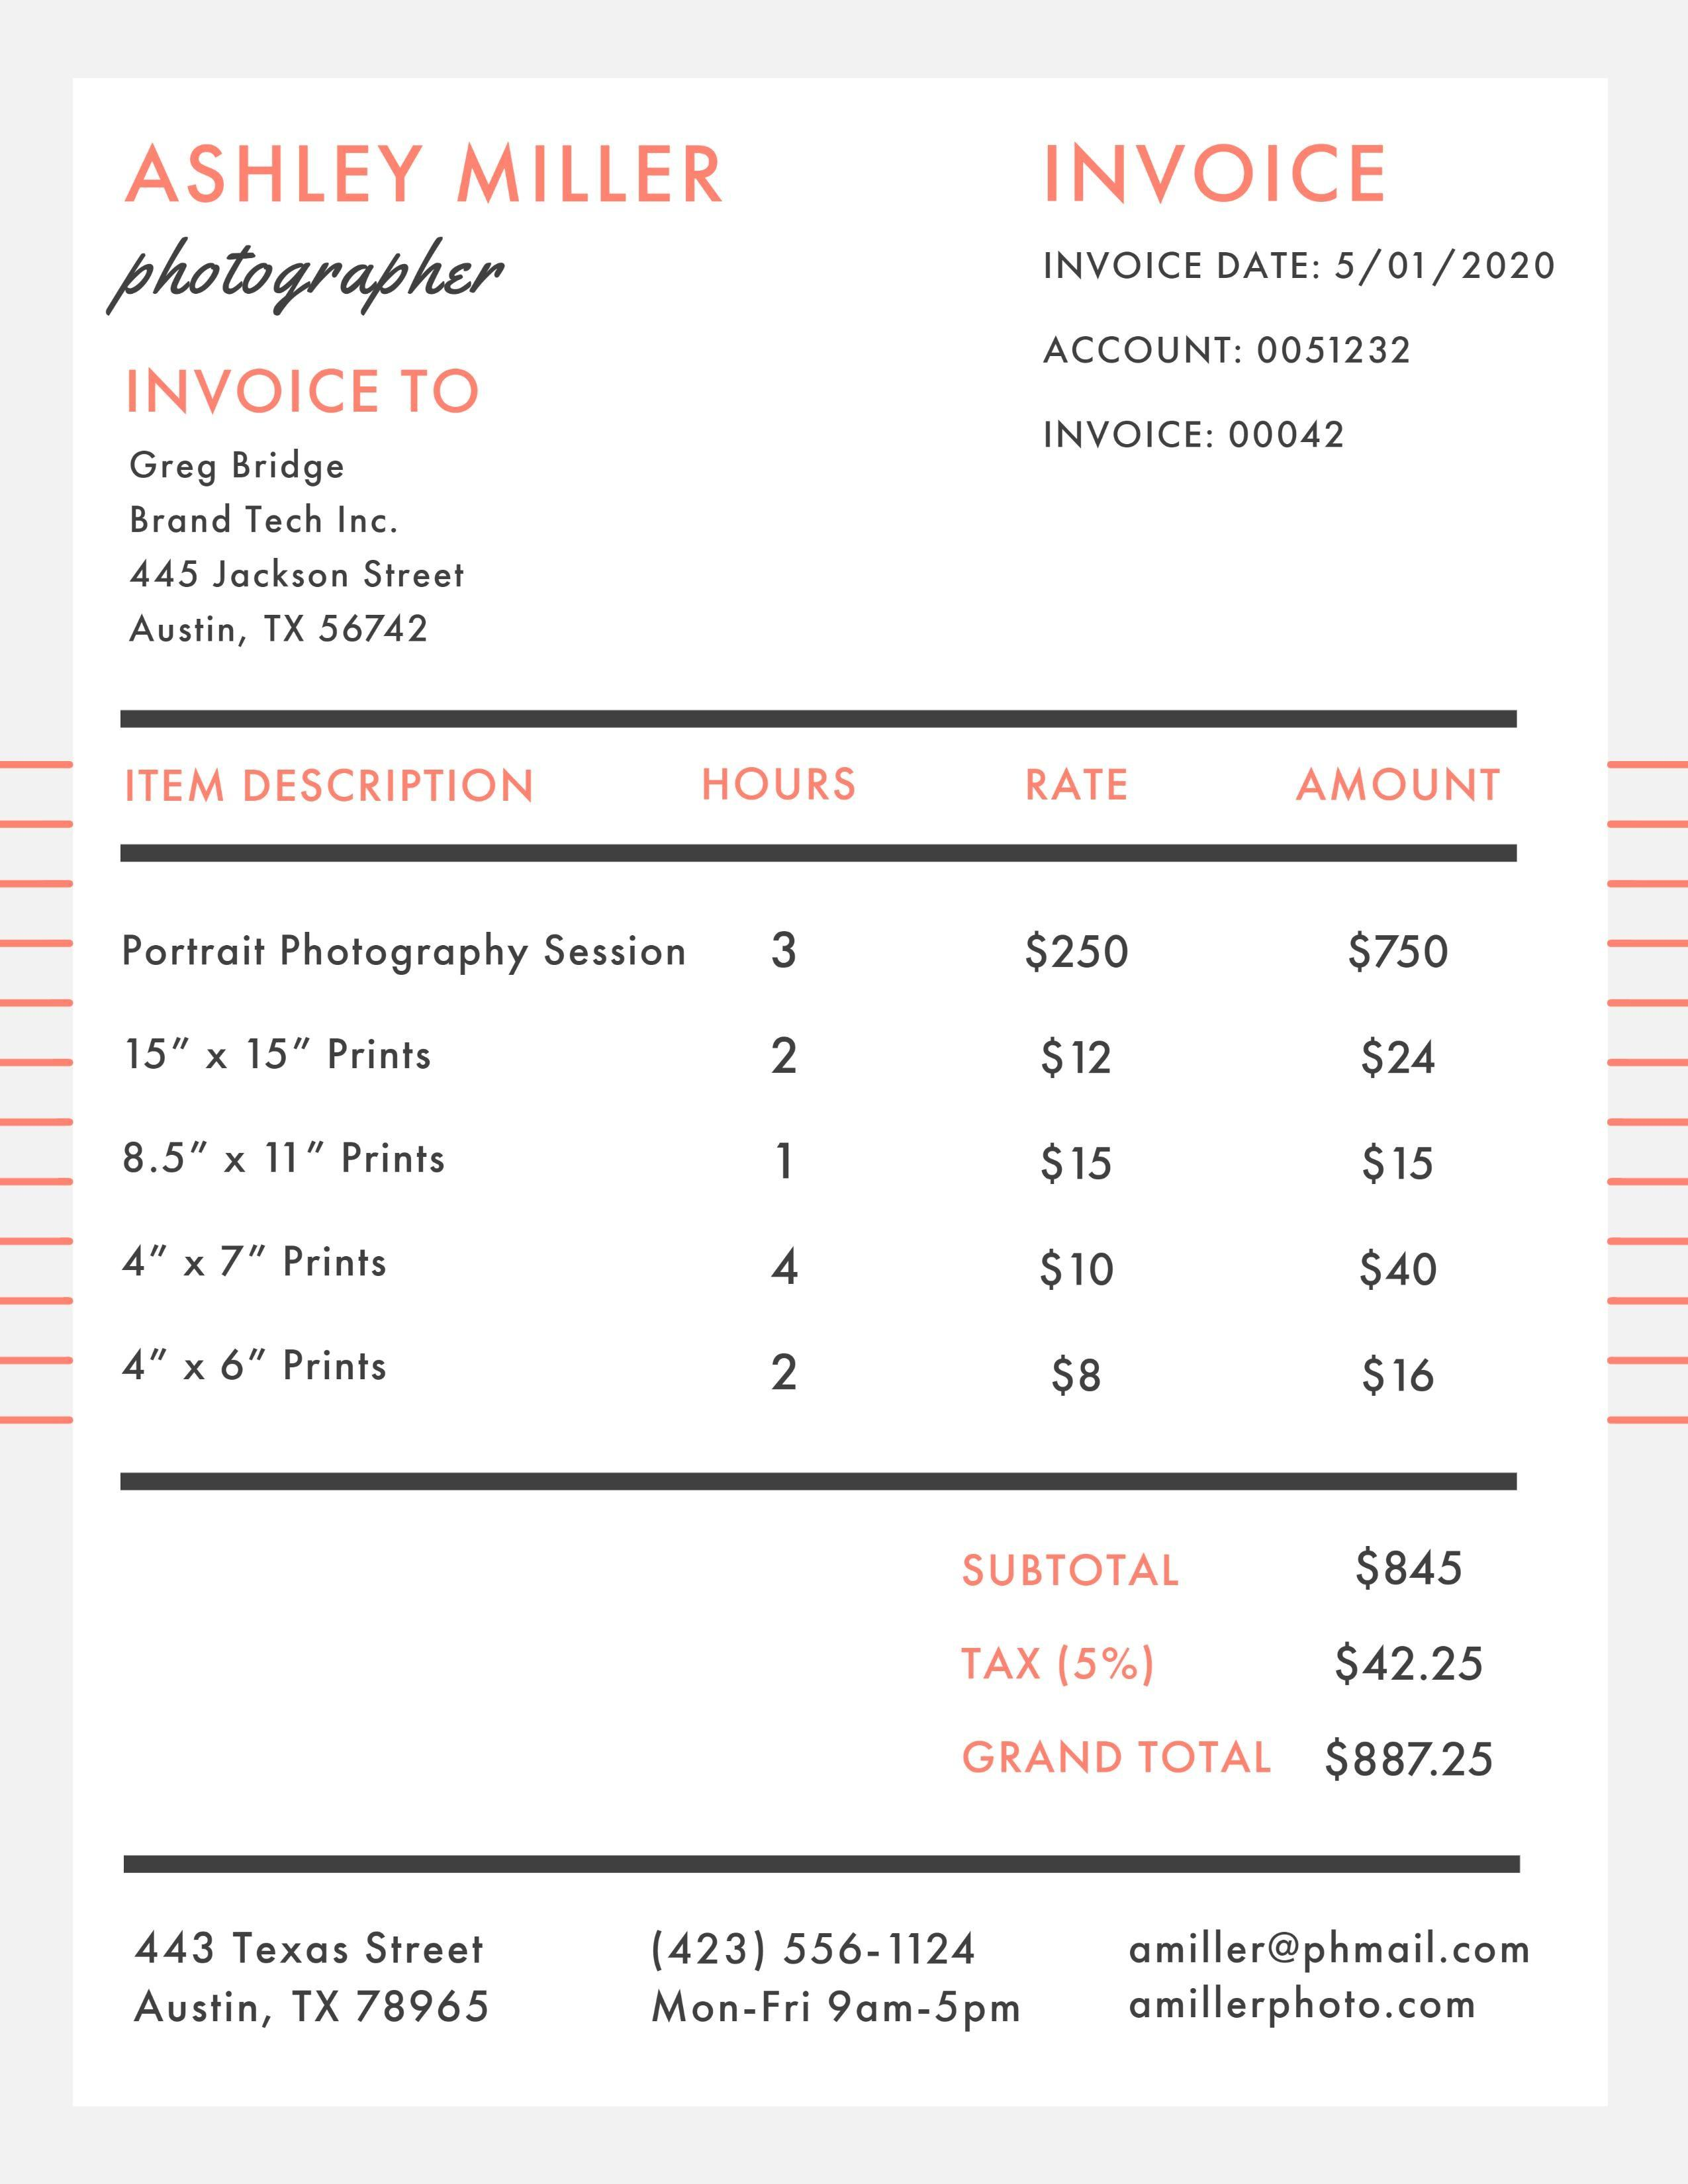ROI: (111, 752, 1524, 1432), (945, 1538, 1531, 1815), (111, 355, 498, 666), (1039, 237, 1560, 462), (111, 127, 741, 312), (1039, 328, 1417, 384)
